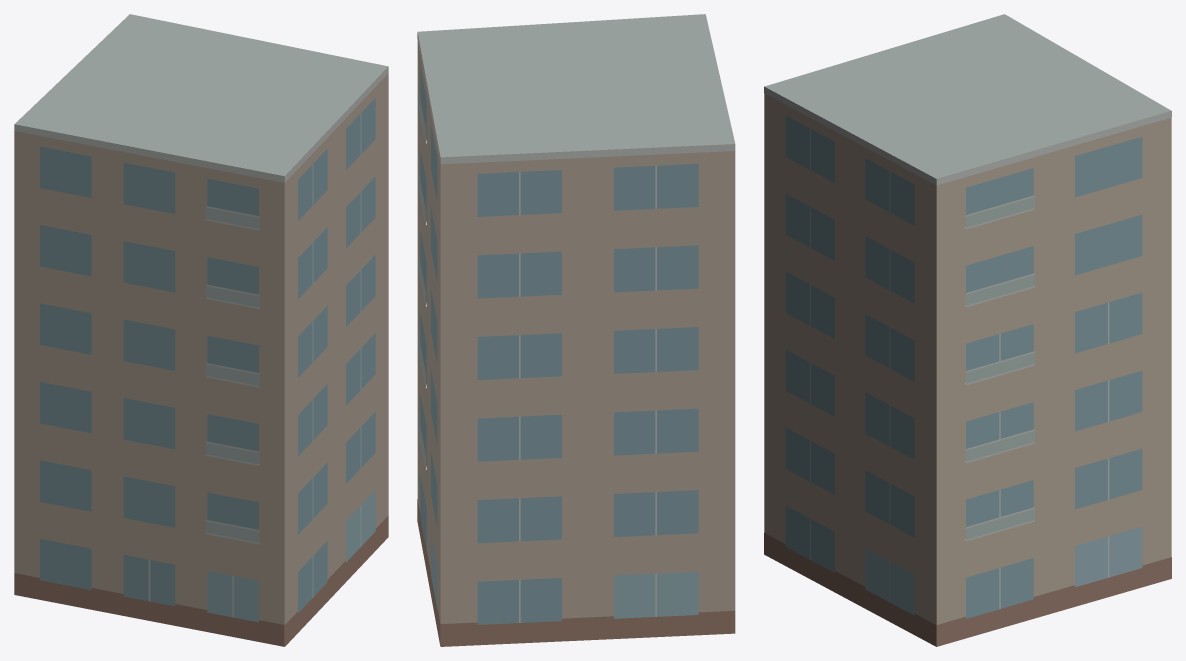
File: survey-upis-32974377.glb
3 renders of one model, left to right at view 1: azimuth 30°, elevation 25°; view 2: azimuth 150°, elevation 25°; view 3: azimuth 270°, elevation 25°, orthographic. The views are drawn at different scales.
Visible parts, largest first — view 1: survey-upis-32974377.tmp; view 2: survey-upis-32974377.tmp; view 3: survey-upis-32974377.tmp.
Boxes of the visible parts, x1,y1,x2,y2 form: survey-upis-32974377.tmp: [14, 14, 388, 646]; survey-upis-32974377.tmp: [417, 14, 735, 646]; survey-upis-32974377.tmp: [764, 14, 1171, 646].
Size of the model in its own units: 12.93 by 17.1 by 13.51.
